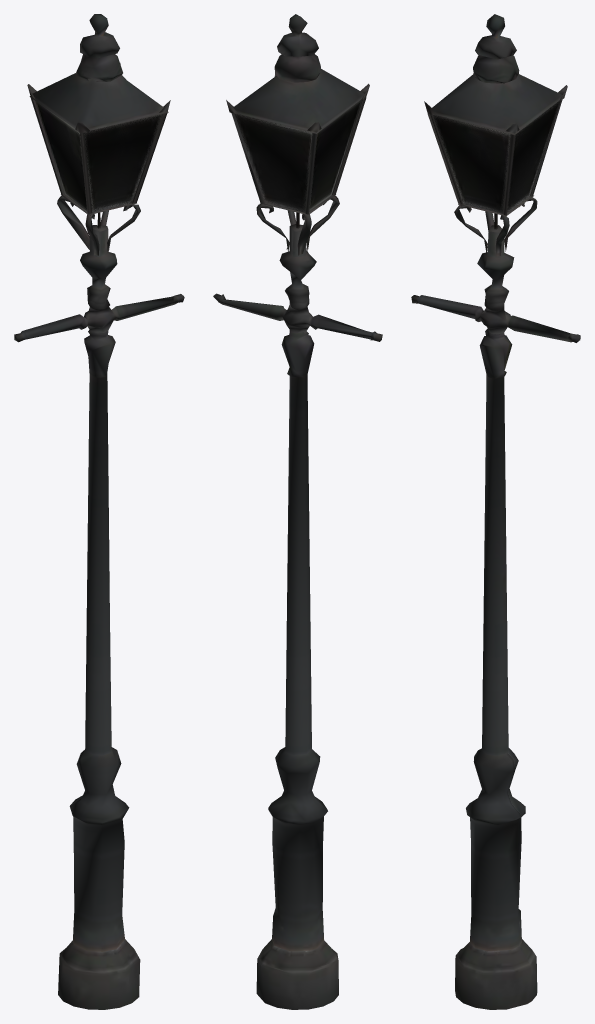
File: street_lamp_01-far.glb
3 renders of one model, left to right at view 1: azimuth 30°, elevation 25°; view 2: azimuth 150°, elevation 25°; view 3: azimuth 330°, elevation 25°, orthographic.
Parts seen in each view (by area): view 1: street_lamp_01; view 2: street_lamp_01; view 3: street_lamp_01.
Part boxes in pixels (<box>): street_lamp_01: <box>14,14,184,1009</box>; street_lamp_01: <box>213,14,382,1009</box>; street_lamp_01: <box>411,14,580,1009</box>.
Size of the model in its own units: 0.6965 by 3.87 by 0.3855.
2 materials, 2 textured.
